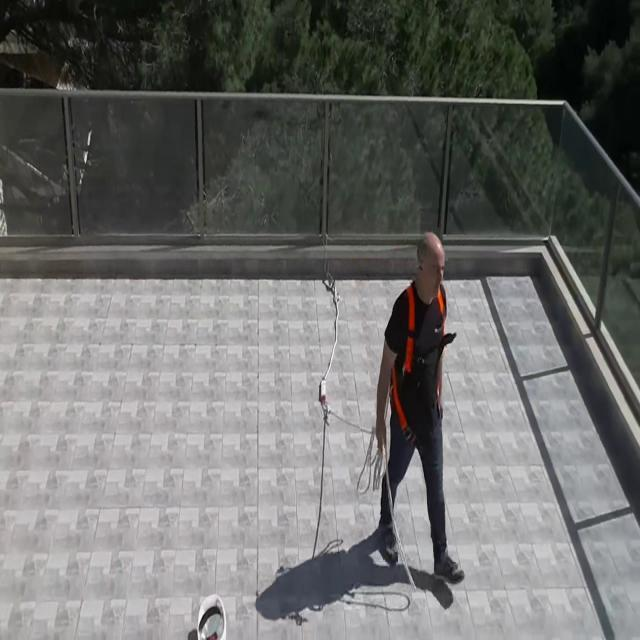safety belt: (386, 279, 463, 445)
